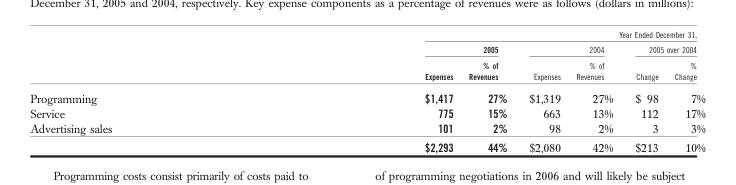table: (29, 28, 704, 154)
table column: (29, 28, 267, 154), (267, 28, 460, 154), (460, 28, 517, 154), (567, 28, 623, 154), (517, 28, 567, 154), (623, 28, 665, 154), (665, 28, 704, 154)
table column header: (29, 28, 704, 85)
table row: (29, 56, 704, 85), (29, 85, 704, 105), (29, 120, 704, 137), (29, 137, 704, 154), (29, 41, 704, 56), (29, 105, 704, 120), (29, 28, 704, 41)
table spanning cell: (267, 28, 704, 41), (267, 41, 517, 56), (517, 41, 623, 56), (623, 41, 704, 56)
